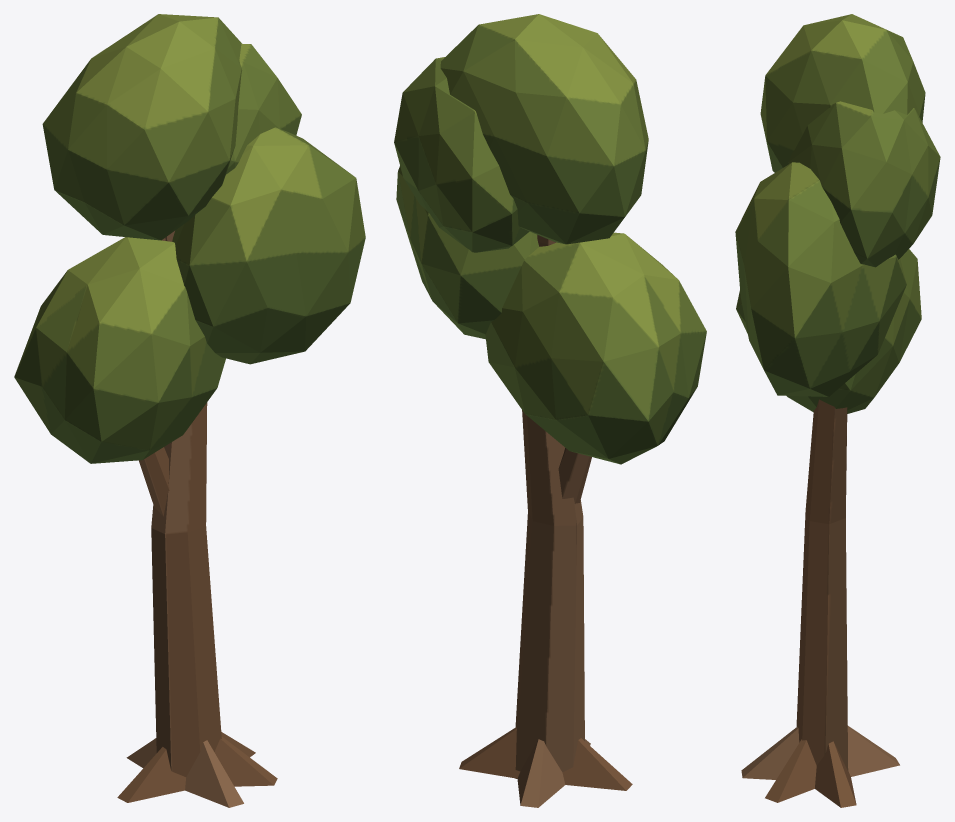
The model's file is tree-slender.glb.
3 views of the same model, side by side, from view 1: azimuth 30°, elevation 25°; view 2: azimuth 150°, elevation 25°; view 3: azimuth 270°, elevation 25° (orthographic). The views are drawn at different scales.
Parts seen in each view (by area): view 1: tree-slender; view 2: tree-slender; view 3: tree-slender.
Part boxes in pixels (x1,y1,x2,y2): tree-slender: (14, 14, 365, 807); tree-slender: (394, 14, 706, 807); tree-slender: (735, 14, 940, 807).
Size of the model in its own units: 3.12 by 7.48 by 1.85.
1 material, 1 textured.
